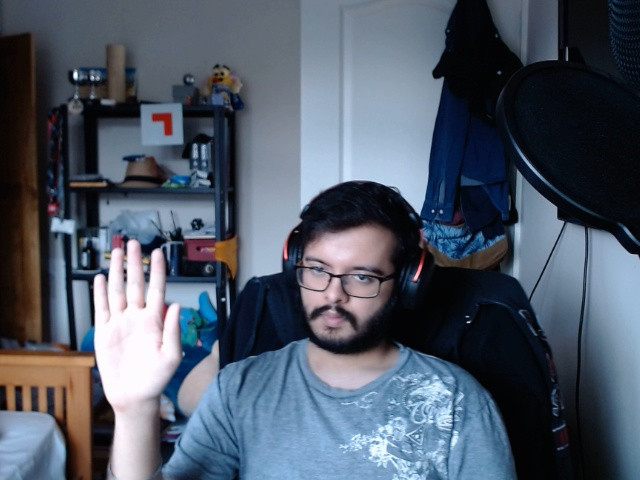Hello: (85, 229, 188, 424)
